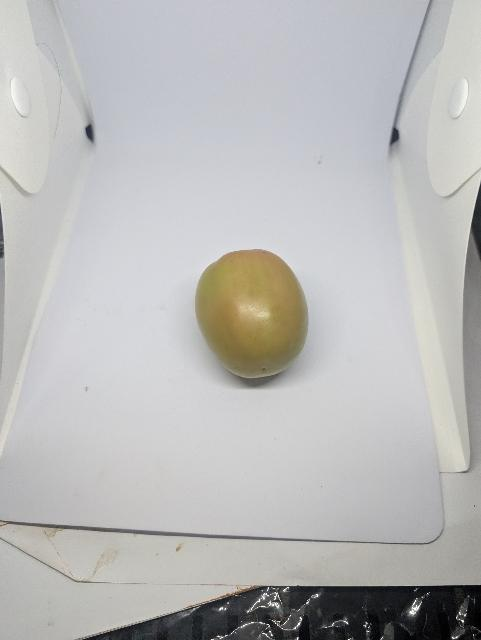breaker: (194, 245, 325, 391)
